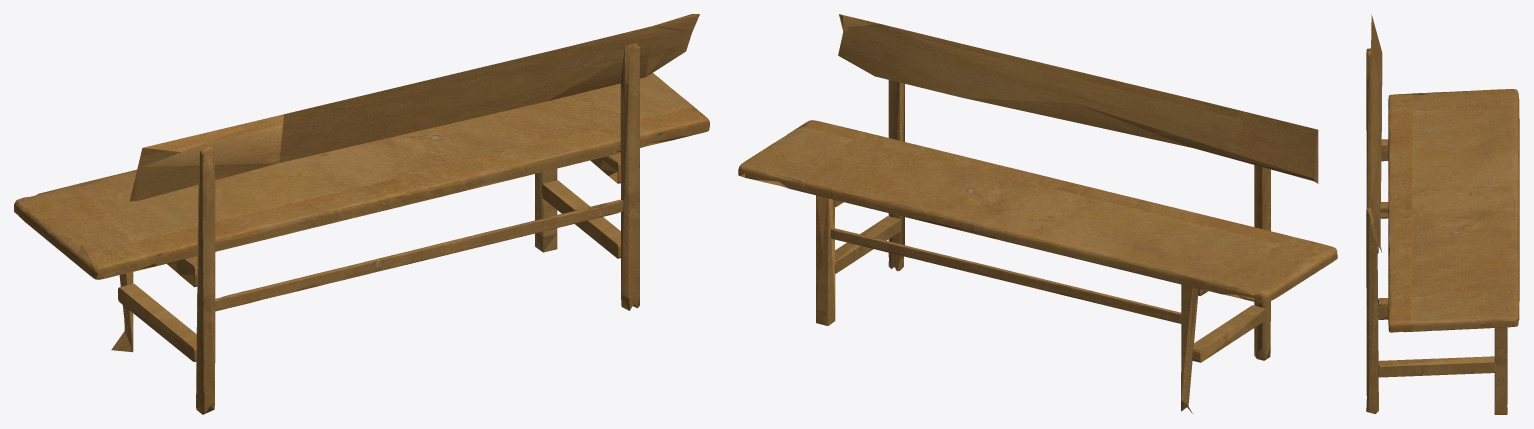
Rendered from bench2.obj.
The picture shows the model from 3 angles, left to right: view 1: azimuth 30°, elevation 25°; view 2: azimuth 150°, elevation 25°; view 3: azimuth 270°, elevation 25°; orthographic projection. The views are drawn at different scales.
Parts seen in each view (by area): view 1: polySurface128; view 2: polySurface128; view 3: polySurface128.
Boxes of the visible parts, x1,y1,x2,y2 form: polySurface128: [14, 14, 709, 414]; polySurface128: [738, 14, 1337, 413]; polySurface128: [1366, 15, 1519, 414].
Bounding box in the file's own units: 4.22 × 1.84 × 1.19.
Materials: 2 (2 with a texture image).
